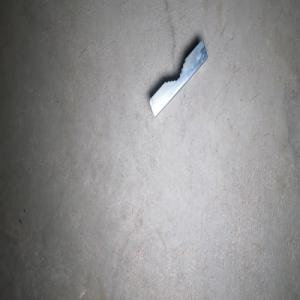ClampPart: (148, 38, 208, 118)
